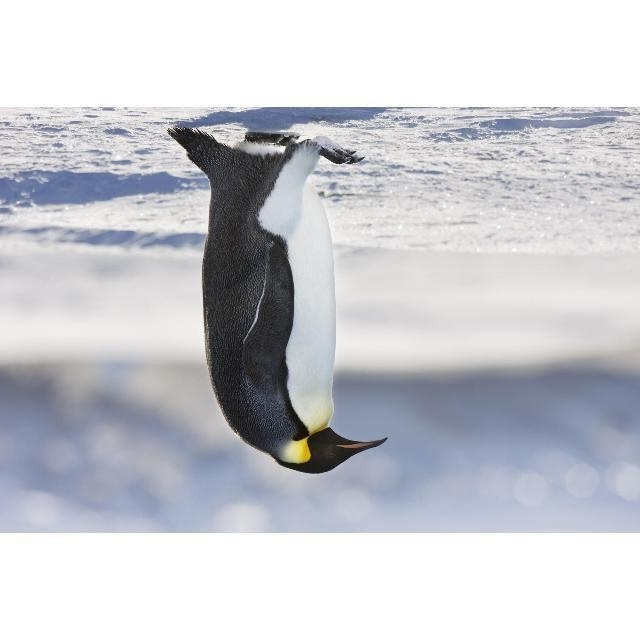penguin: (169, 126, 388, 474)
